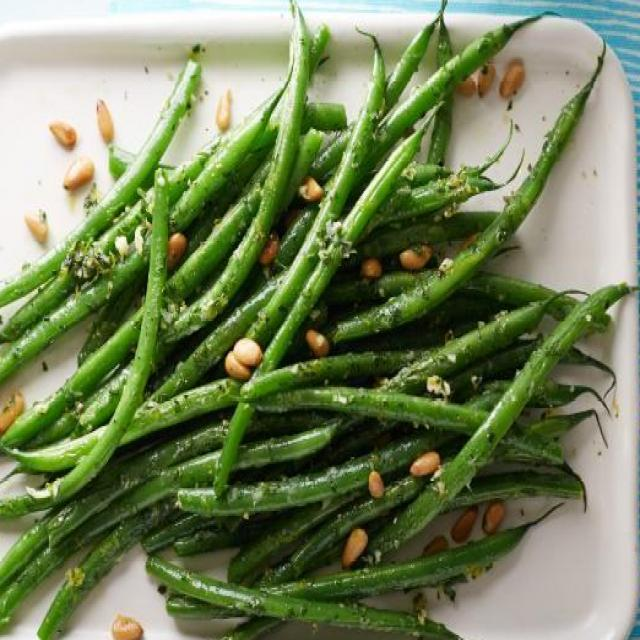Beans: (0, 21, 630, 639)
